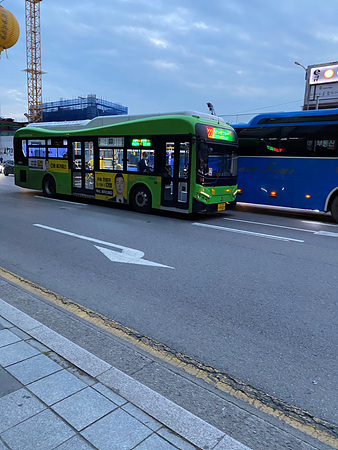entrance: (159, 134, 188, 210)
